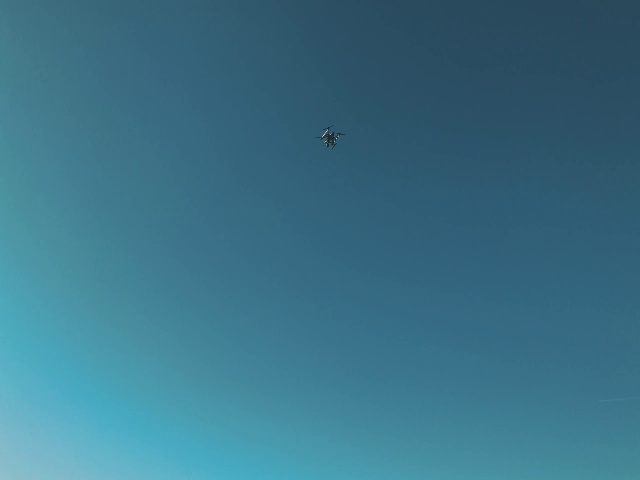drone: (313, 124, 347, 151)
